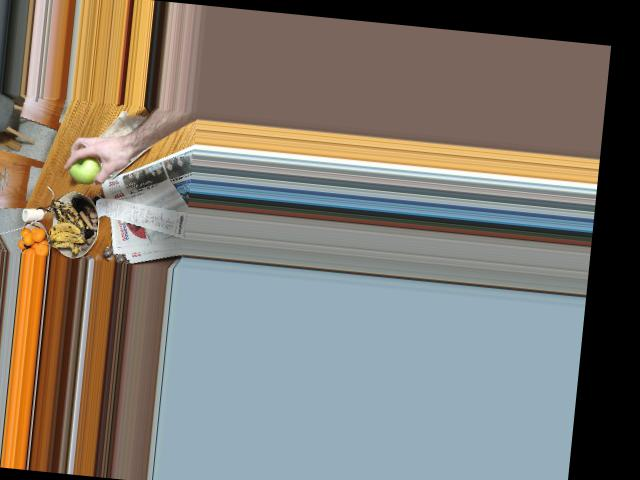apple: (64, 152, 102, 187)
